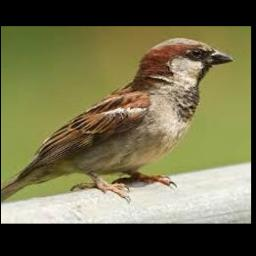Sparrow: (1, 37, 234, 203)
